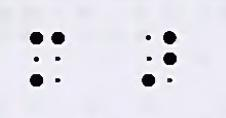araw: (141, 31, 177, 87)
mga: (29, 32, 65, 87)
